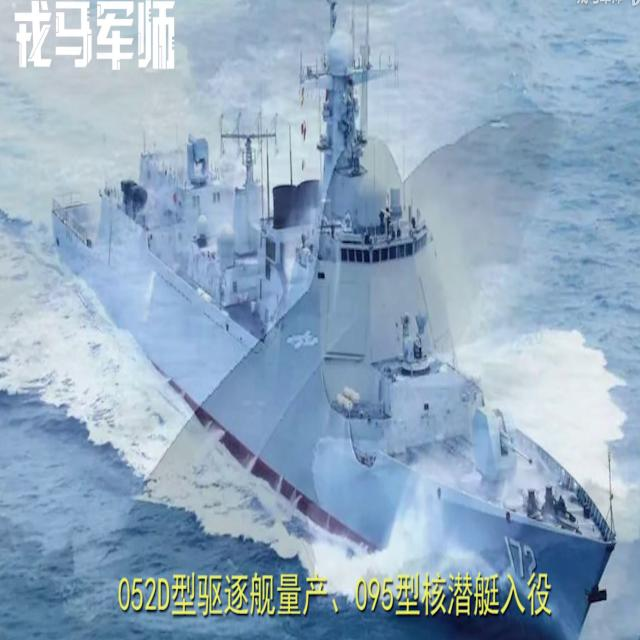navalvessels: (54, 35, 615, 640)
